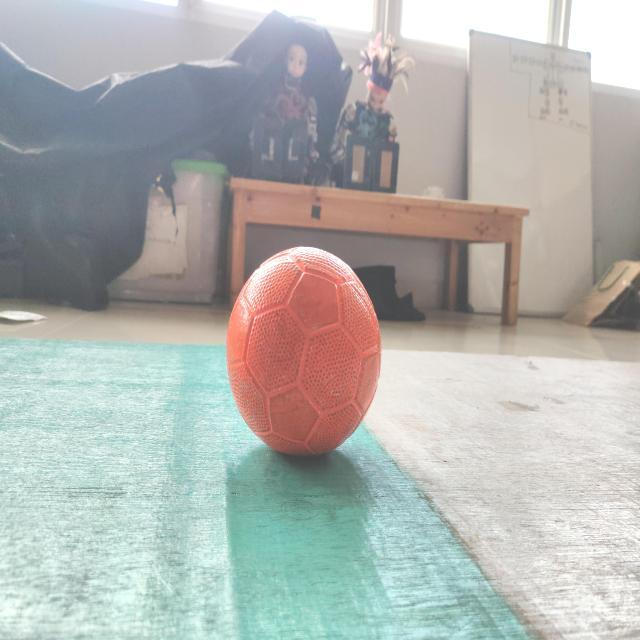bola: (217, 237, 382, 480)
